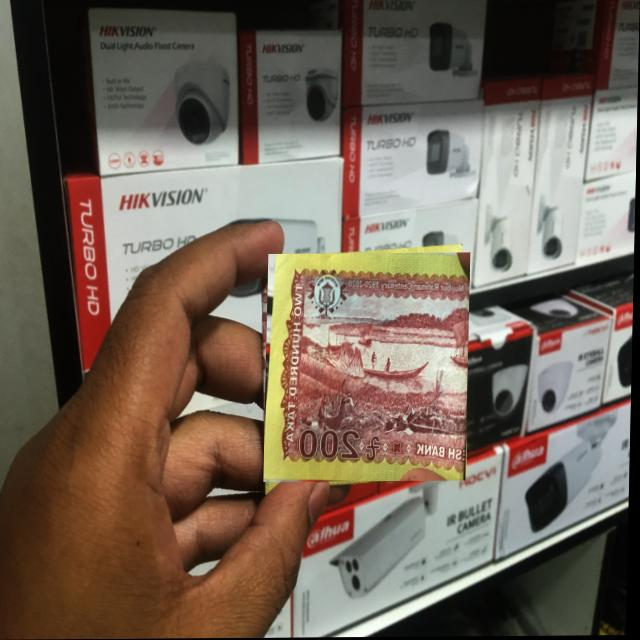Taka: (266, 253, 472, 482)
